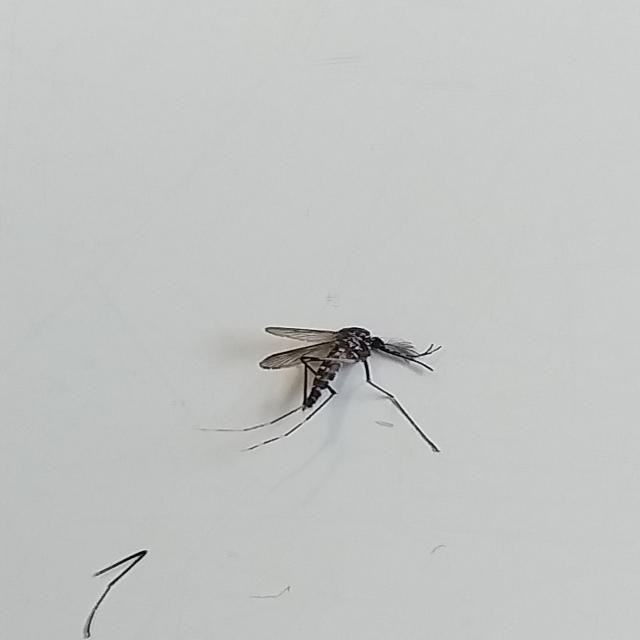albopictus: (206, 309, 453, 460)
